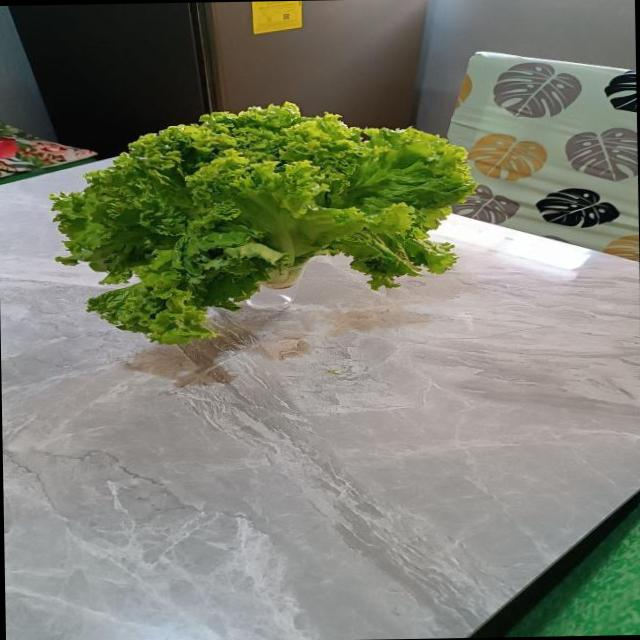Lettuce-Ready-to-Harvest: (54, 102, 474, 343)
